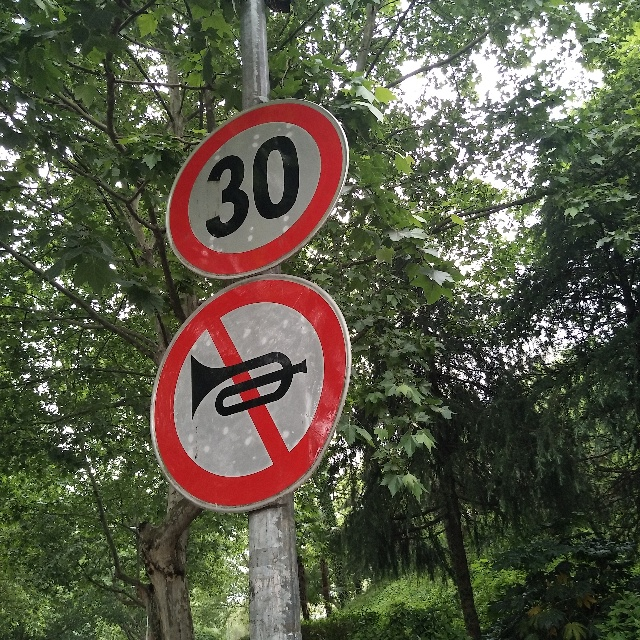nohonk: (159, 328, 336, 463)
